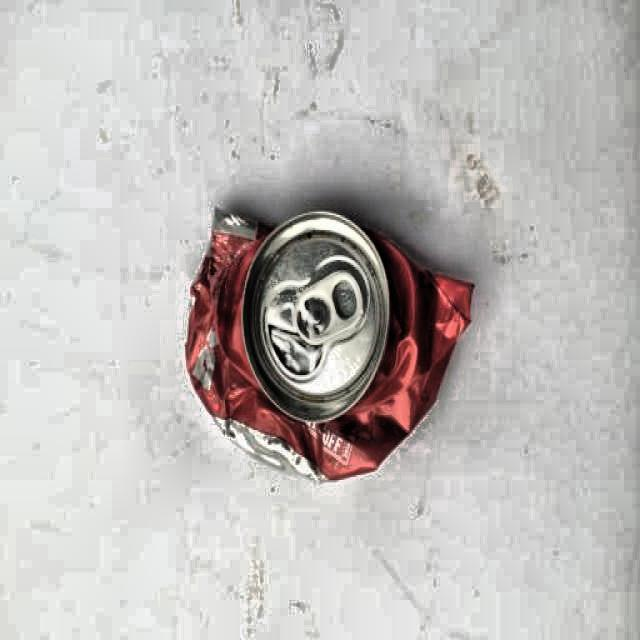metal: (185, 209, 475, 484)
